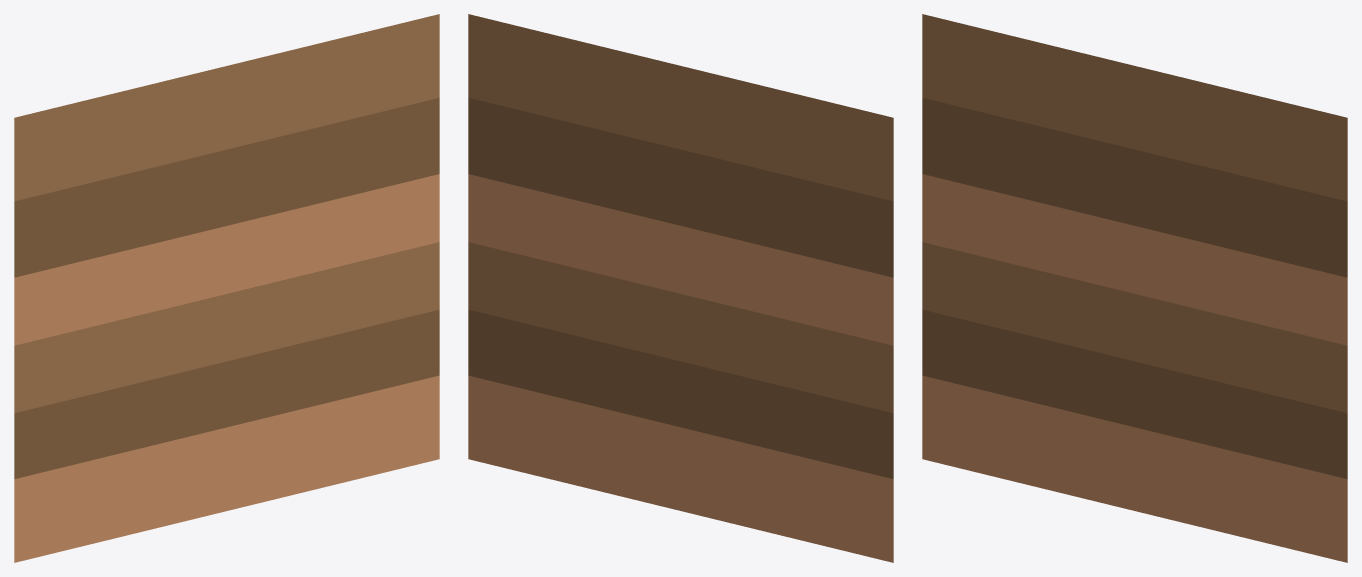
Rendered from Cube Grass Side Center Tall.glb.
The picture shows the model from 3 angles, left to right: view 1: azimuth 30°, elevation 25°; view 2: azimuth 150°, elevation 25°; view 3: azimuth 330°, elevation 25°; orthographic projection.
Parts seen in each view (by area): view 1: Cube_Grass_SideCenter_Tall; view 2: Cube_Grass_SideCenter_Tall; view 3: Cube_Grass_SideCenter_Tall.
Part boxes in pixels (left/top/right/bottom): Cube_Grass_SideCenter_Tall: left=14, top=14, right=439, bottom=562; Cube_Grass_SideCenter_Tall: left=468, top=14, right=893, bottom=562; Cube_Grass_SideCenter_Tall: left=922, top=14, right=1347, bottom=562.
Size of the model in its own units: 2 by 2 by 0.
